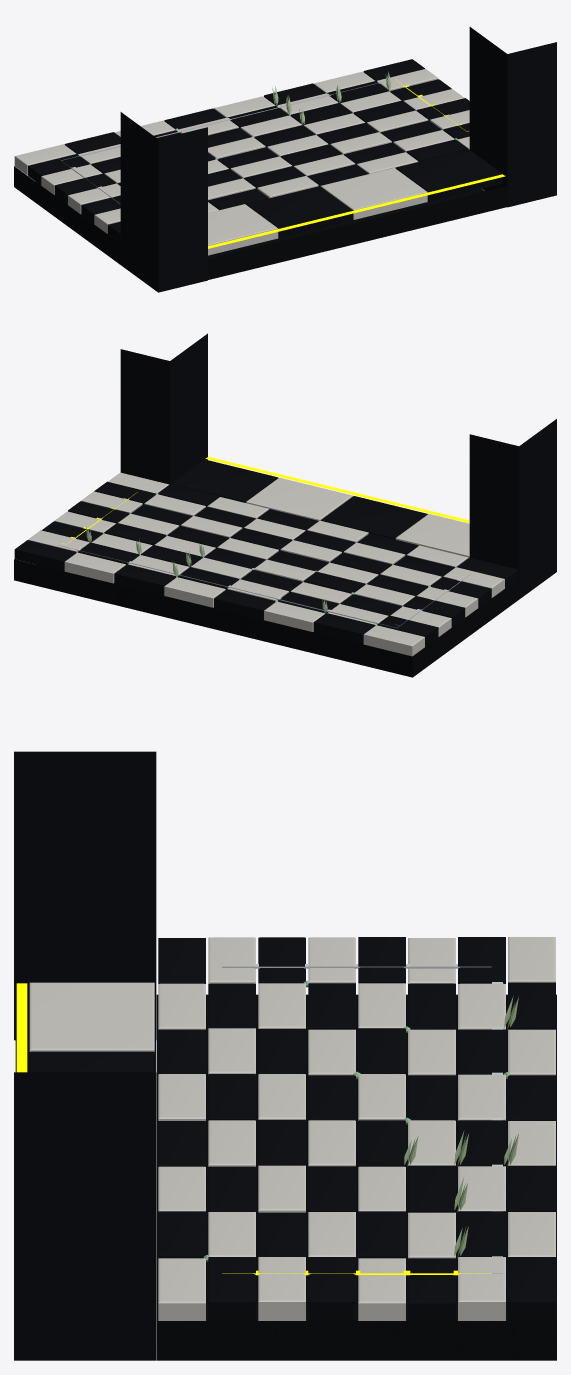
File: tt_terrace_edge_open_e38.glb
3 renders of one model, top to bottom at view 1: azimuth 30°, elevation 25°; view 2: azimuth 150°, elevation 25°; view 3: azimuth 270°, elevation 25°, orthographic. The views are drawn at different scales.
Visible parts, largest first — view 1: Kerb_Pier, Pavers_B, Pavers_A, Threshold_Slab, Pavers_B_T, Pavers_A_T, Deck_Slab, Threshold_Amber, Court_Strips_White, Joint_Tufts; view 2: Pavers_B, Pavers_A, Kerb_Pier, Deck_Slab, Pavers_B_T, Pavers_A_T, Threshold_Amber, Court_Strips_White; view 3: Kerb_Pier, Pavers_B, Pavers_A, Deck_Slab, Pavers_A_T, Pavers_B_T, Joint_Tufts, Threshold_Amber, Court_Strips_White.
Part boxes in pixels (x1=…): Kerb_Pier: x1=120, y1=27, x2=556, y2=292; Pavers_B: x1=28, y1=59, x2=469, y2=243; Pavers_A: x1=14, y1=69, x2=469, y2=233; Threshold_Slab: x1=208, y1=186, x2=506, y2=279; Pavers_B_T: x1=246, y1=149, x2=502, y2=238; Pavers_A_T: x1=208, y1=168, x2=427, y2=255; Deck_Slab: x1=14, y1=166, x2=120, y2=264; Threshold_Amber: x1=208, y1=174, x2=505, y2=248; Court_Strips_White: x1=58, y1=78, x2=399, y2=204; Joint_Tufts: x1=272, y1=71, x2=391, y2=124; Pavers_B: x1=14, y1=481, x2=517, y2=646; Pavers_A: x1=28, y1=472, x2=504, y2=656; Kerb_Pier: x1=120, y1=333, x2=556, y2=599; Deck_Slab: x1=14, y1=559, x2=518, y2=677; Pavers_B_T: x1=171, y1=459, x2=427, y2=539; Pavers_A_T: x1=246, y1=477, x2=469, y2=557; Threshold_Amber: x1=205, y1=457, x2=469, y2=523; Court_Strips_White: x1=58, y1=545, x2=471, y2=627; Kerb_Pier: x1=14, y1=751, x2=156, y2=1360; Pavers_B: x1=158, y1=937, x2=555, y2=1320; Pavers_A: x1=158, y1=937, x2=555, y2=1320; Deck_Slab: x1=156, y1=994, x2=556, y2=1360; Pavers_A_T: x1=29, y1=982, x2=154, y2=1051; Pavers_B_T: x1=29, y1=1051, x2=154, y2=1072; Joint_Tufts: x1=404, y1=996, x2=518, y2=1258; Threshold_Amber: x1=16, y1=983, x2=27, y2=1072; Court_Strips_White: x1=222, y1=964, x2=502, y2=1273.
Size of what is drawn, in the model's own units: 4 by 1.47 by 2.51.
7 materials, 3 textured.
